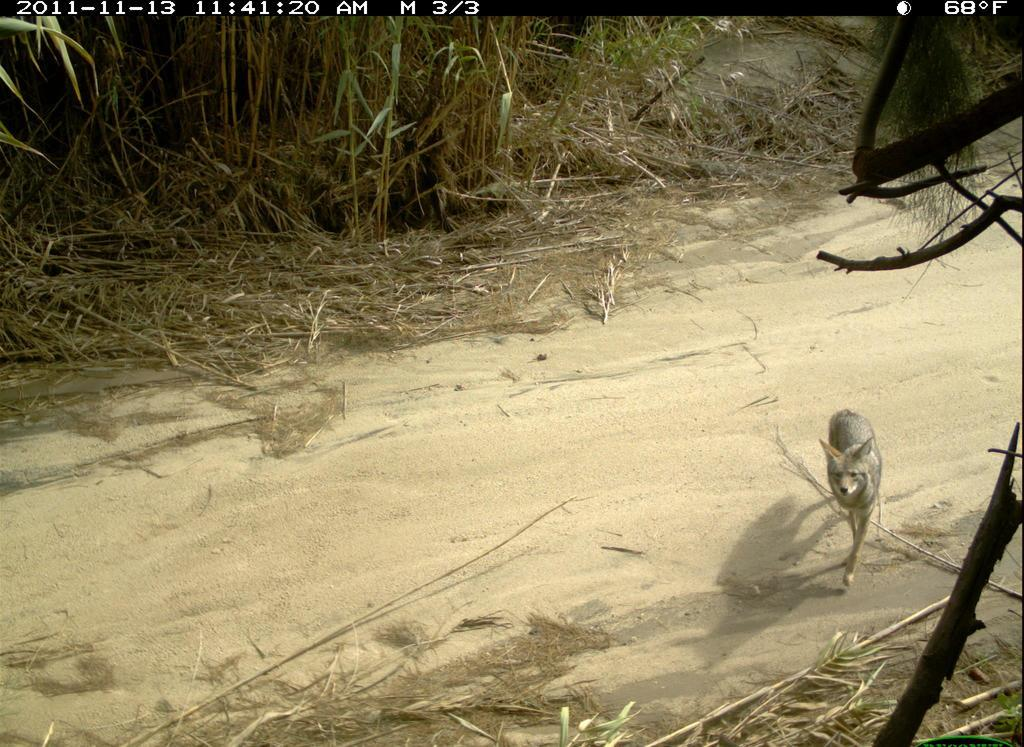coyote: (811, 404, 894, 596)
